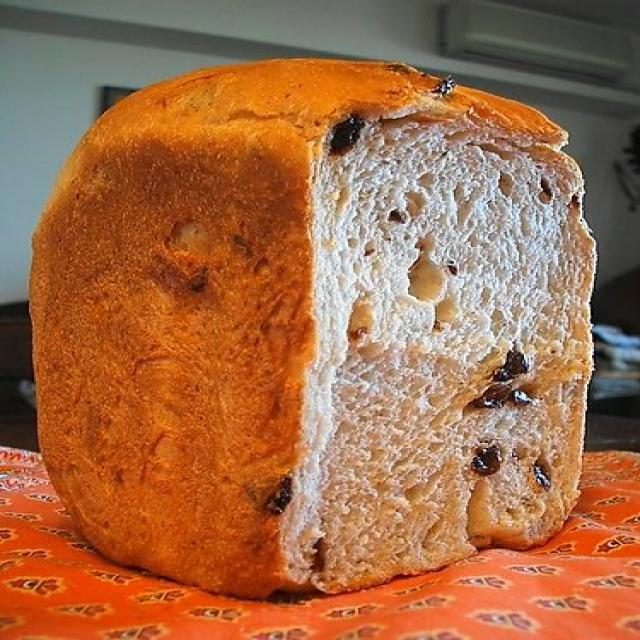面包点心: (36, 40, 607, 592)
